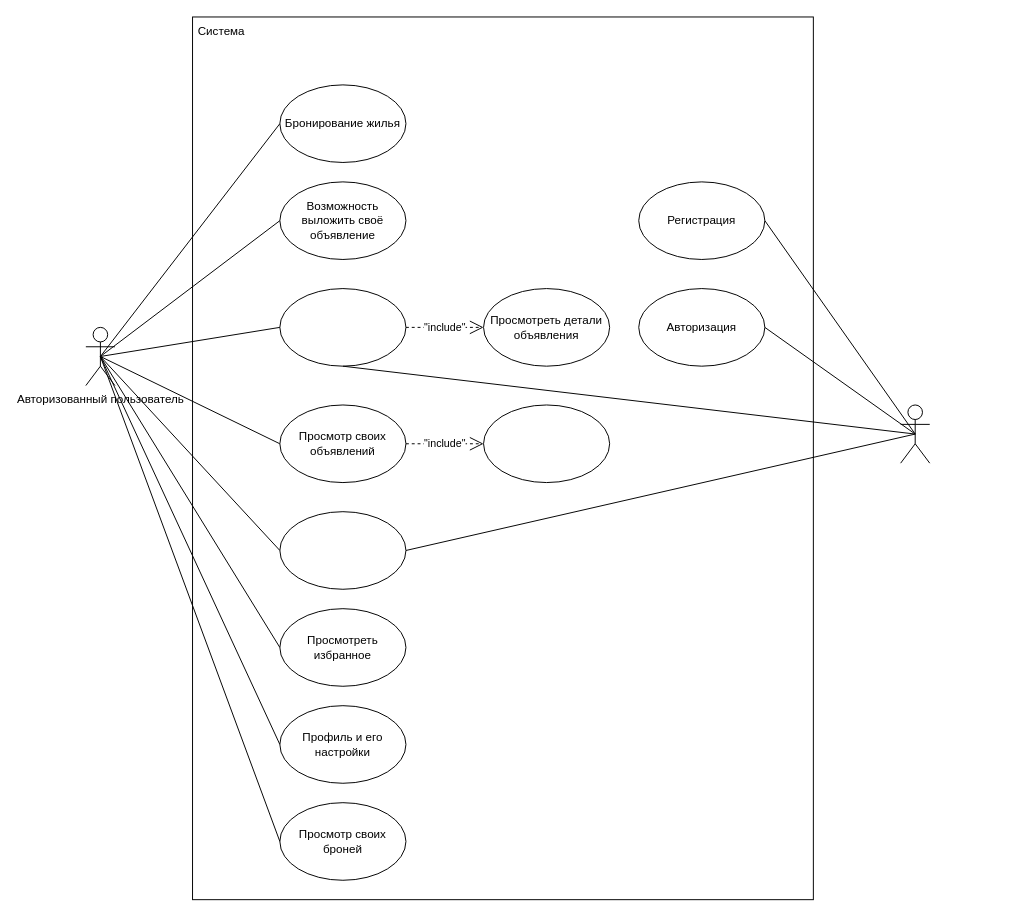
The diagram is 1021 pixels wide and 917 high, and some of its shapes have lost their labels. The shapes that lost their labels are listed below. From the top down, each one's centre as x and y in pixels, then its label:
At point (342, 327): "Просмотр объявлений".
At point (546, 443): "Просмотреть детали своего объявления".
At point (915, 433): "Неавторизованный пользователь".
At point (342, 550): "Фильтры и поиск".
